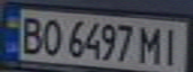4: (81, 19, 103, 61)
6: (63, 17, 87, 59)
7: (115, 20, 136, 63)
9: (100, 20, 118, 61)
B: (15, 13, 45, 55)
I: (157, 25, 184, 66)
M: (136, 22, 166, 65)
O: (36, 16, 66, 56)
